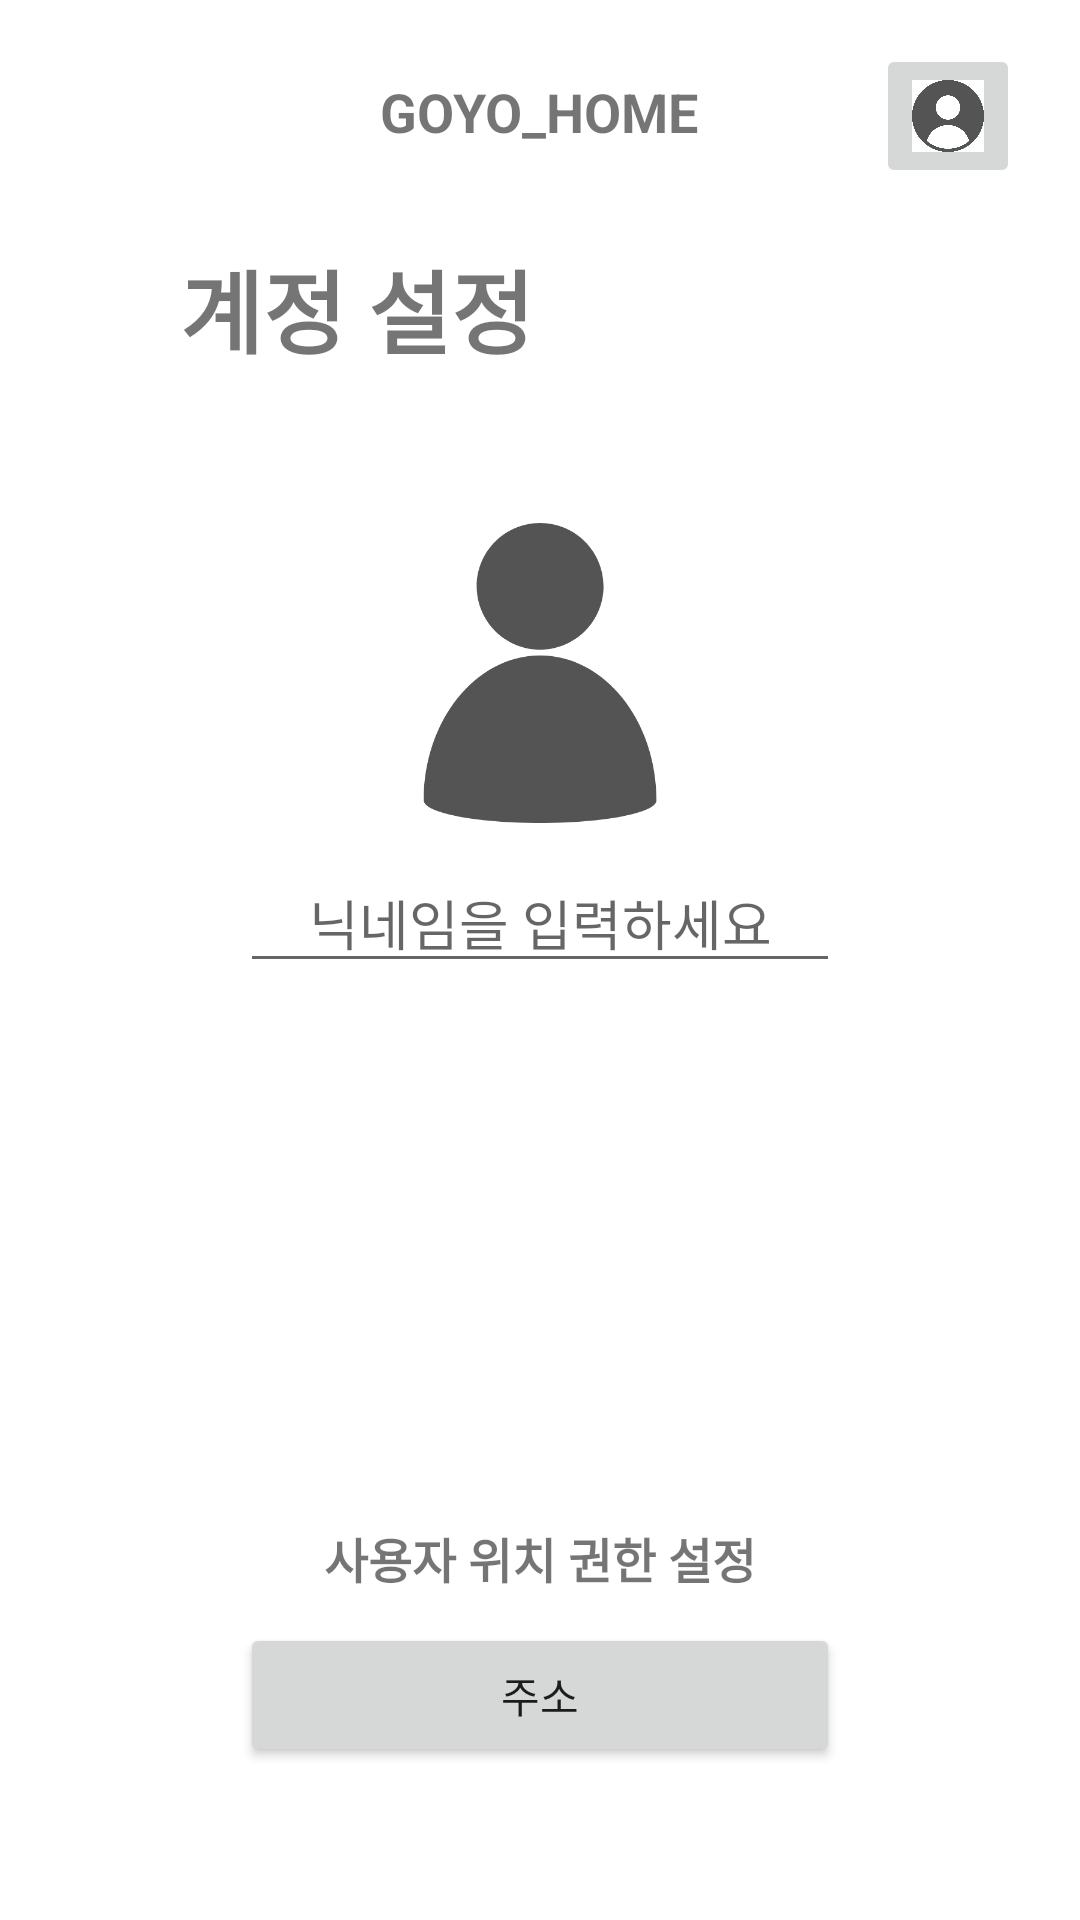

Named icons in this screenshot (1080px×1920px) and their bounding boxes, (x1, y1, x2, y2):
profile: (888, 62, 1008, 170), (423, 523, 657, 823)
